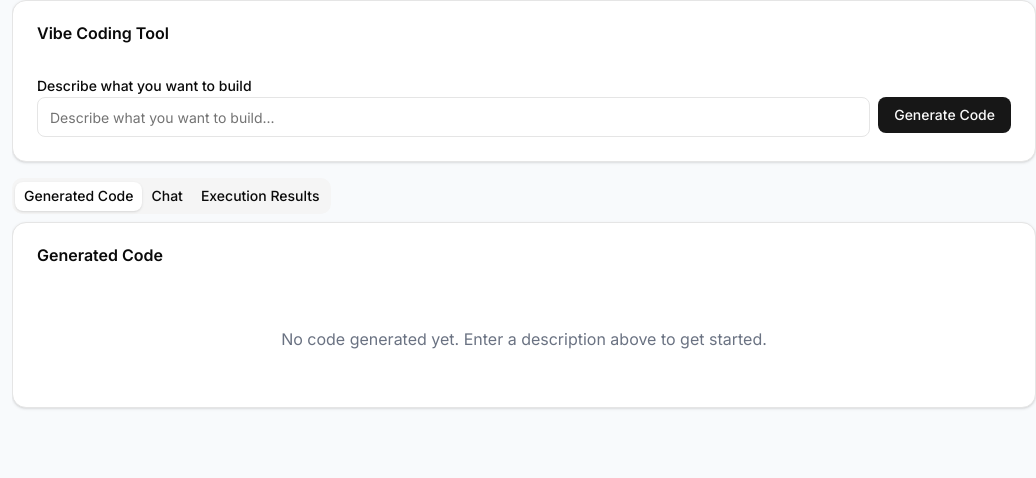
VibeCodingTool › Natural Language Input › should handle natural language input
Type "Create a FastAPI endpoint for user authentication" into the field with placeholder "Describe what you want to build..." at (454, 117), box [37,97,870,137]
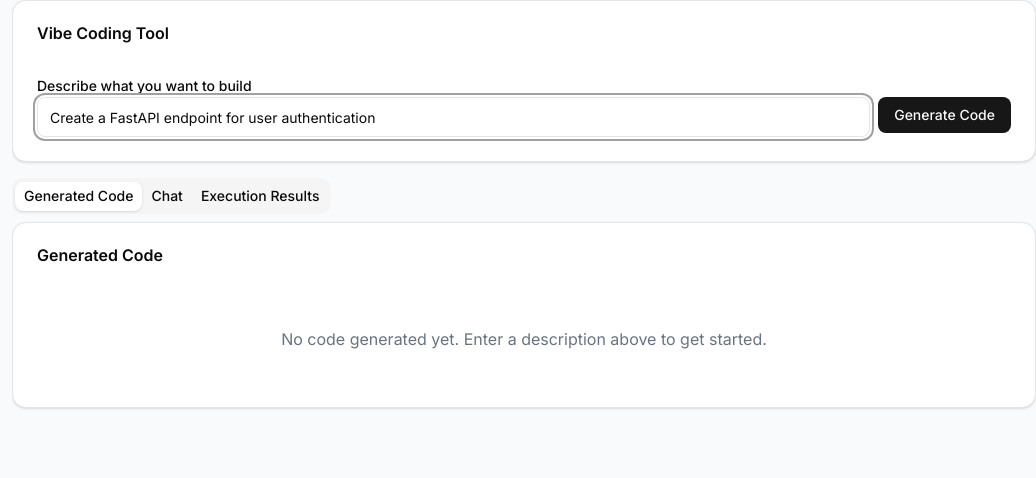
Click the button "Generate Code" at (945, 115), box [878,97,1011,133]
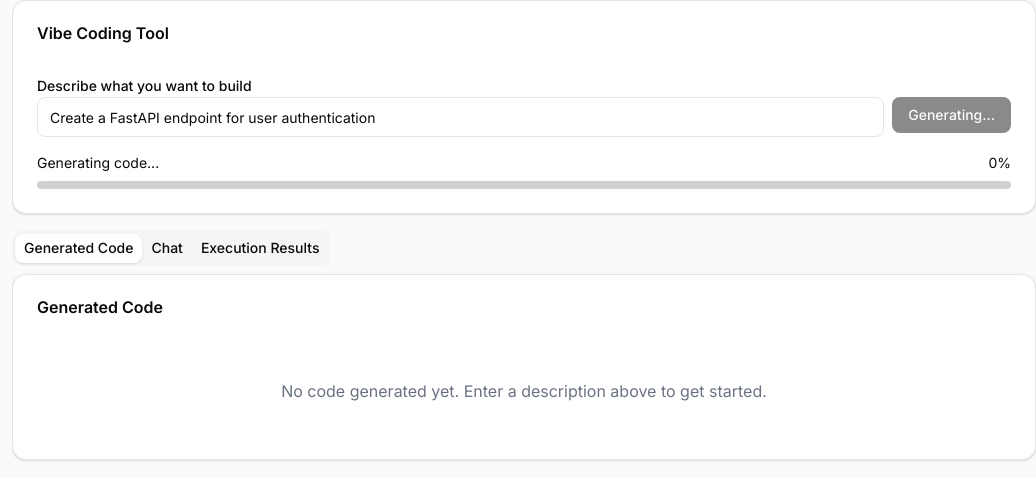
Check: the element with test id "progress-indicator" is shown, box [37,153,1011,189]
